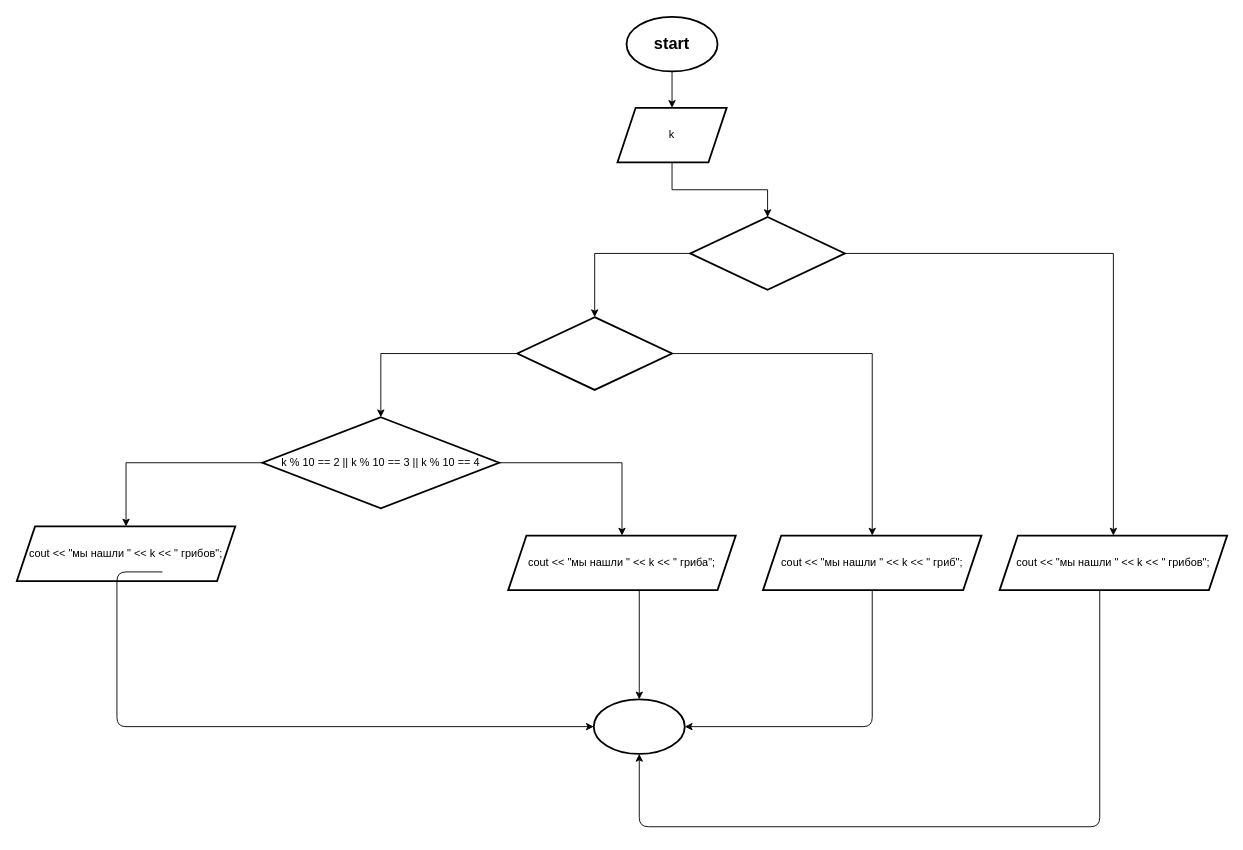
This 1243x850 diagram has some shape labels left out. The centre of each missing label's shape, as x and y in pixels:
end: the point at 638,726
k == 1 || k % 10 == 1: the point at 594,353
k == 11 || k % 100 == 11: the point at 767,253
